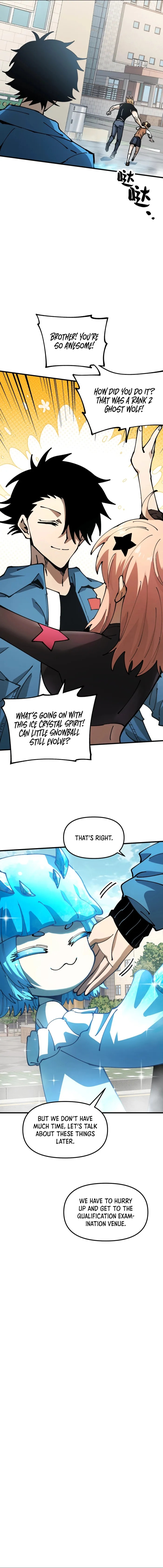bubbles: (30, 309, 163, 446), (1, 677, 99, 770), (21, 1088, 111, 1160), (60, 1181, 150, 1244), (62, 815, 128, 862)
